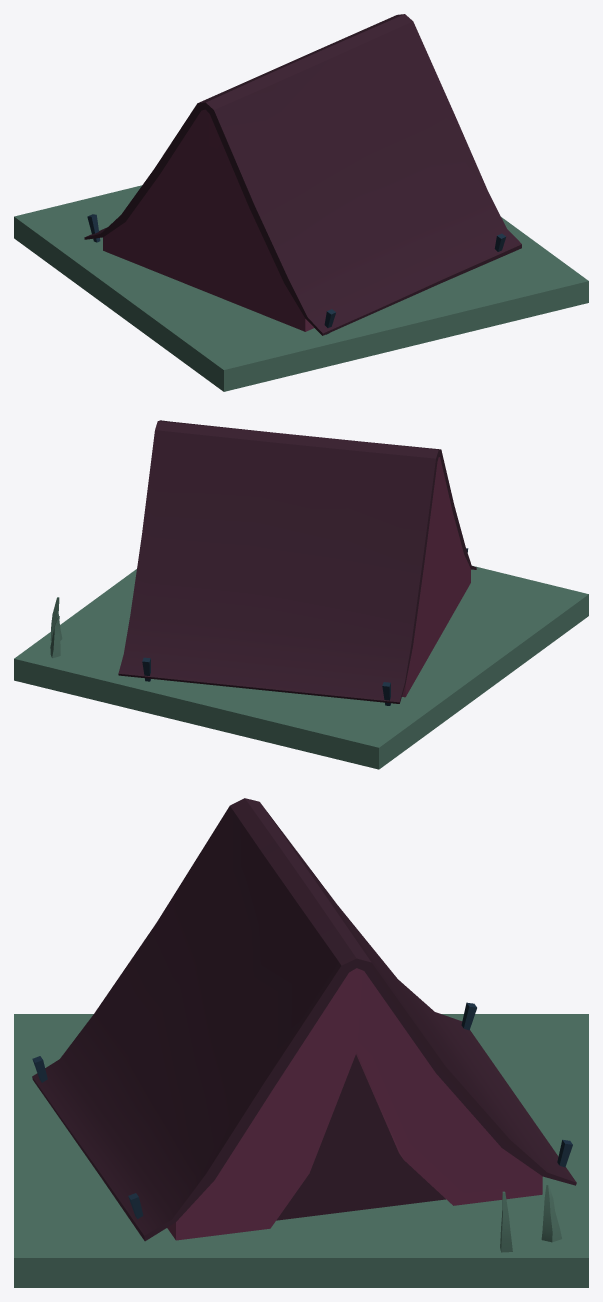
Rendered from ASSET_ENV_tente2.fbx.
3 views of the same model, one above another, from view 1: azimuth 30°, elevation 25°; view 2: azimuth 150°, elevation 25°; view 3: azimuth 270°, elevation 25° (orthographic). The views are drawn at different scales.
Visible parts, largest first — view 1: TENTE3; view 2: TENTE3; view 3: TENTE3.
Boxes of the visible parts, <box> form: TENTE3: <box>14,14,588,391</box>; TENTE3: <box>14,420,588,769</box>; TENTE3: <box>14,798,588,1287</box>.
Bounding box in the file's own units: 1.99 × 1.11 × 1.98.
